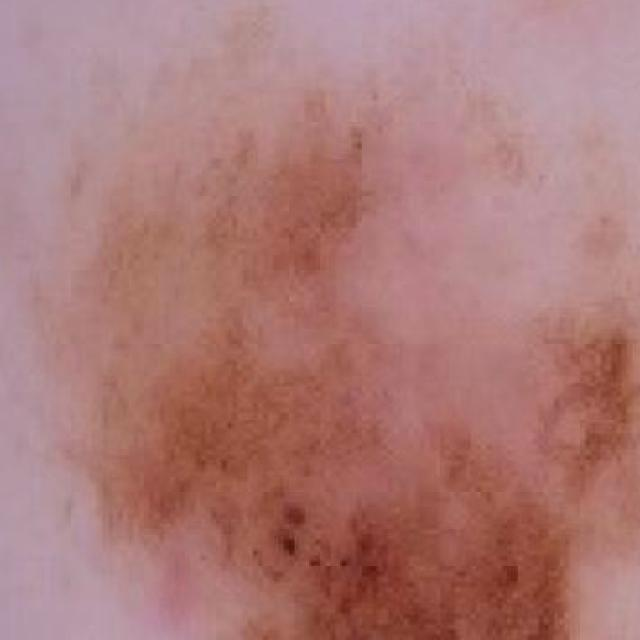MEL: (25, 44, 640, 640)
